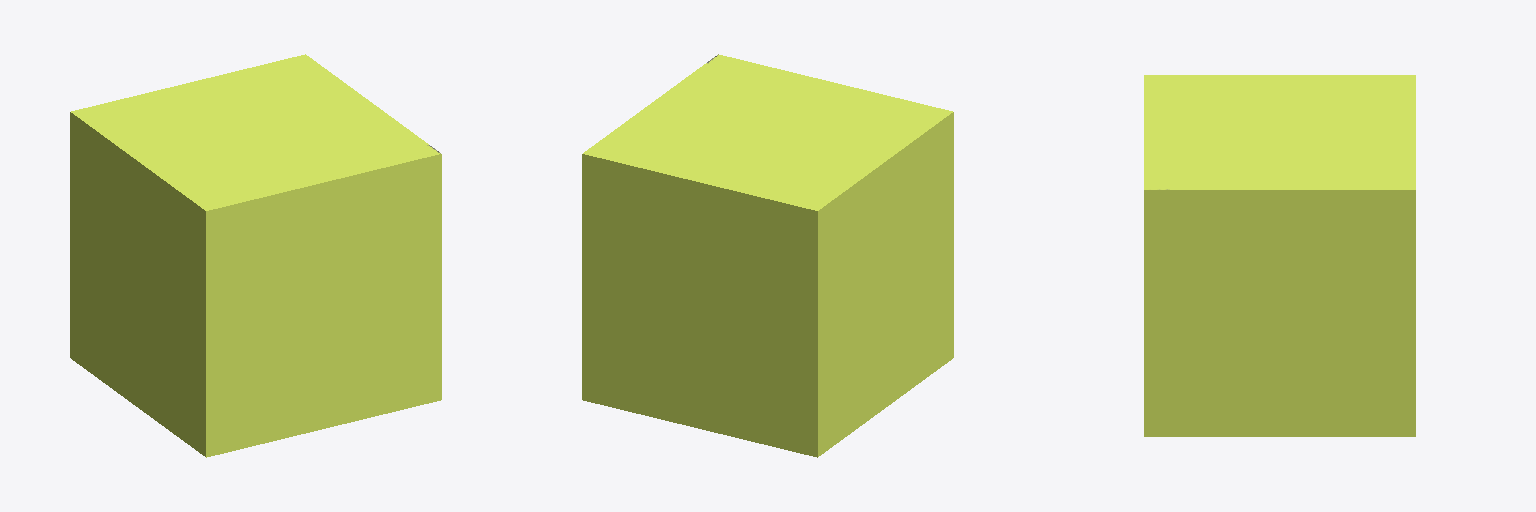
The picture shows the model from 3 angles: view 1: azimuth 30°, elevation 25°; view 2: azimuth 150°, elevation 25°; view 3: azimuth 270°, elevation 25°; orthographic projection.
Parts seen in each view (by area): view 1: Cube; view 2: Cube; view 3: Cube.
Part boxes in pixels (x1,y1,x2,y2): Cube: (70,54,441,457); Cube: (582,54,953,457); Cube: (1144,75,1415,436).
Size of the model in its own units: 2 by 2 by 2.
1 materials, 1 textured.